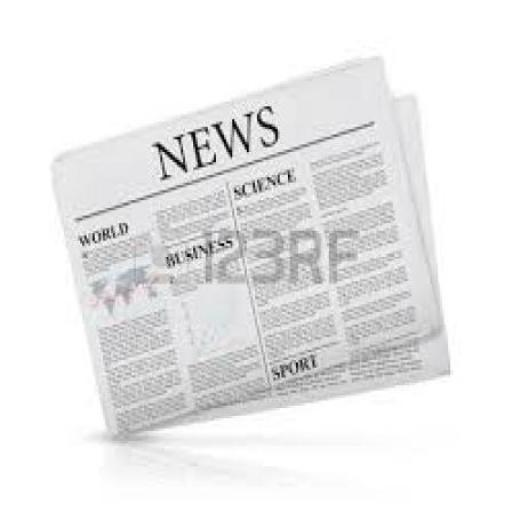paper: (41, 54, 476, 442)
